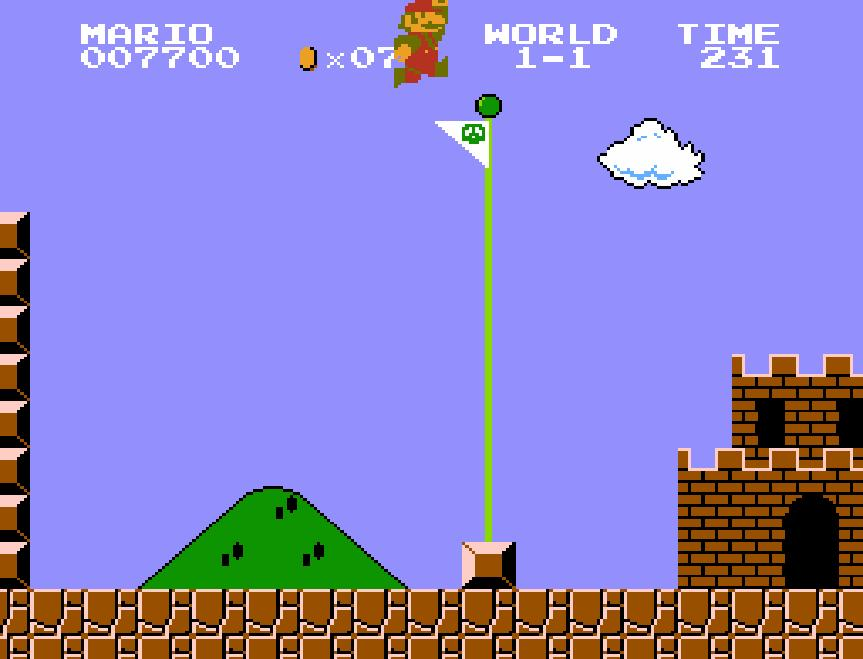big_mario: (392, 0, 450, 89)
